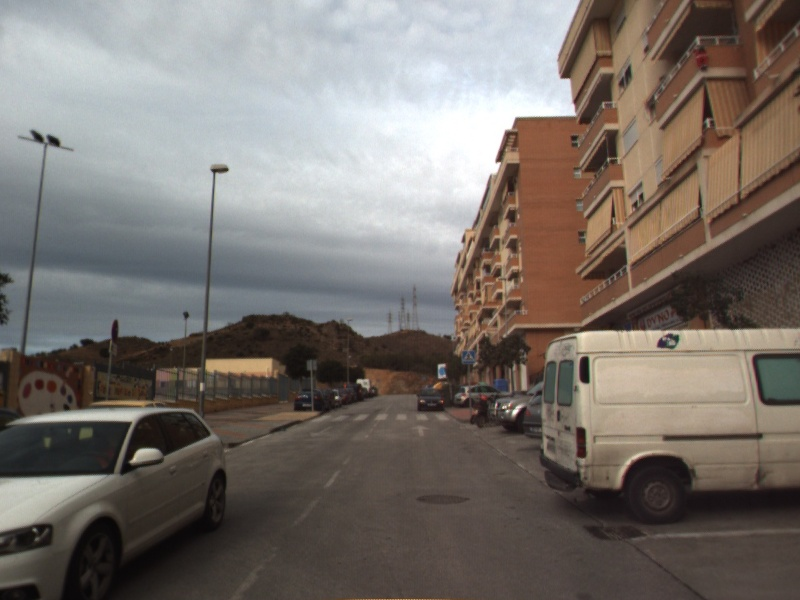STRAIGHT: (409, 423, 432, 438)
